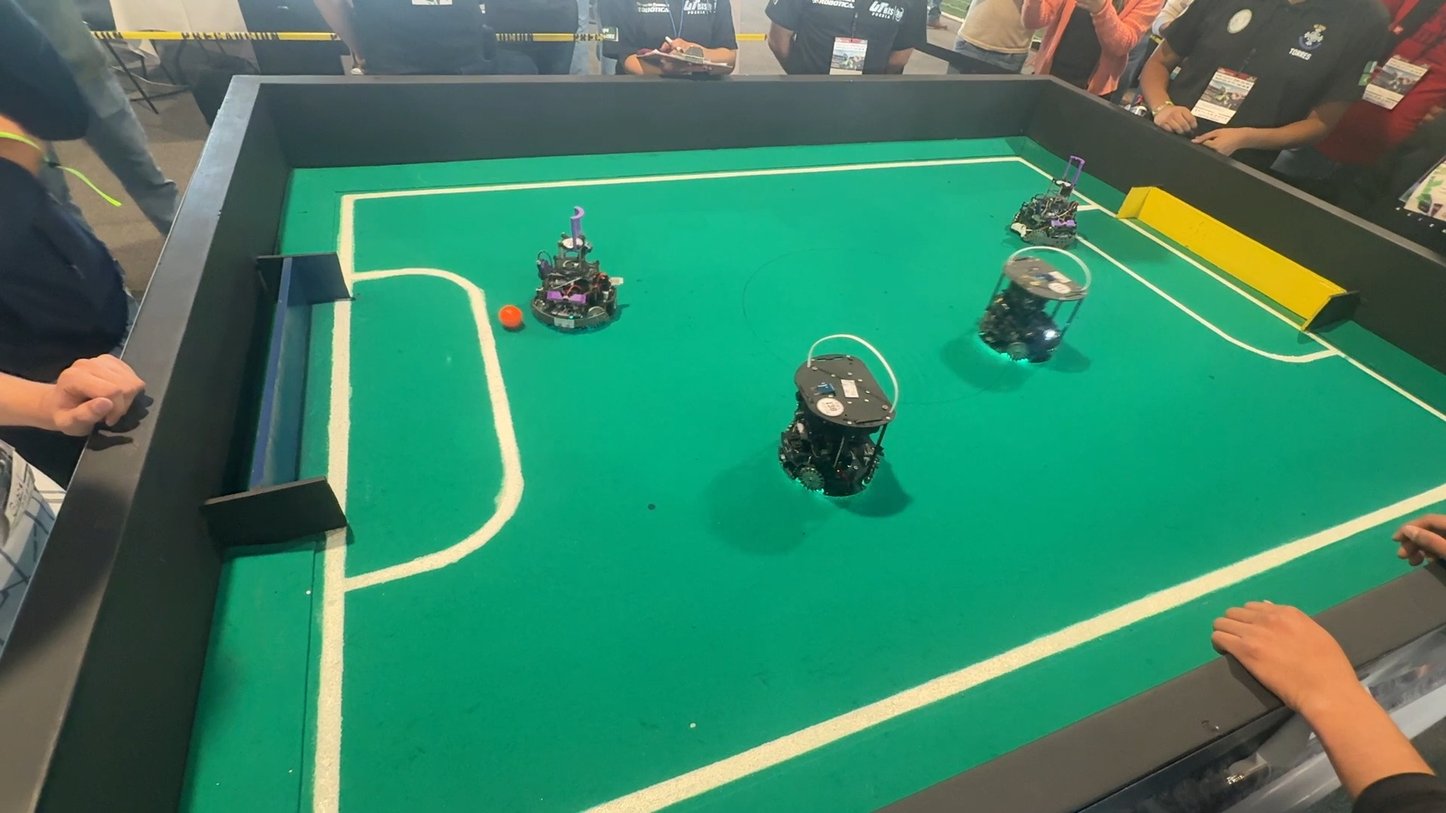Robot: (756, 331, 898, 530), (957, 241, 1088, 384), (526, 215, 632, 342)
pelota: (492, 304, 525, 335)
